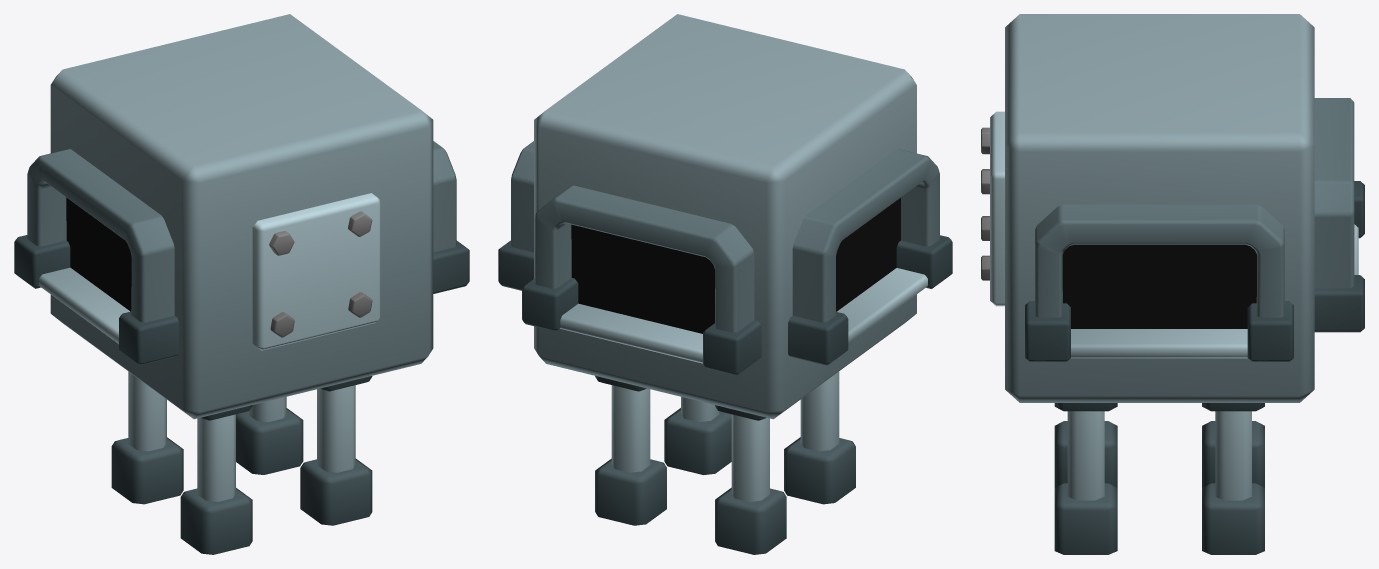
File: SM_Machine_Generic_3Input.fbx
The picture shows the model from 3 angles, left to right: view 1: azimuth 30°, elevation 25°; view 2: azimuth 150°, elevation 25°; view 3: azimuth 270°, elevation 25°; orthographic projection. The views are drawn at different scales.
Visible parts, largest first — view 1: polySurface76; view 2: polySurface76; view 3: polySurface76.
Part boxes in pixels (x1=…): polySurface76: x1=14, y1=14, x2=469, y2=554; polySurface76: x1=498, y1=14, x2=952, y2=554; polySurface76: x1=981, y1=14, x2=1364, y2=554.
Size of the model in its own units: 139 by 130 by 164.
